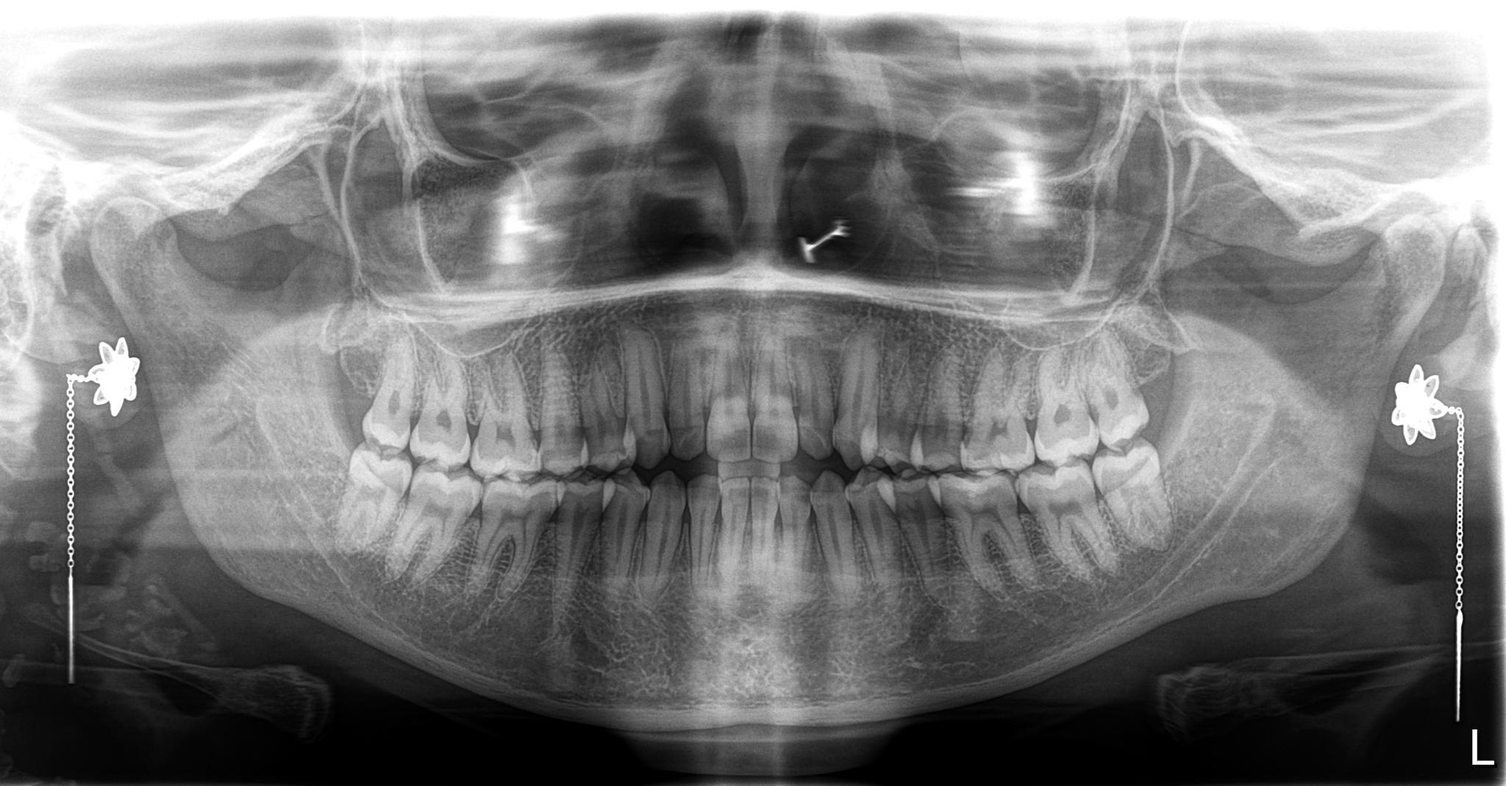Dental Caries: (347, 477, 393, 526), (517, 417, 571, 456), (574, 421, 610, 460)
